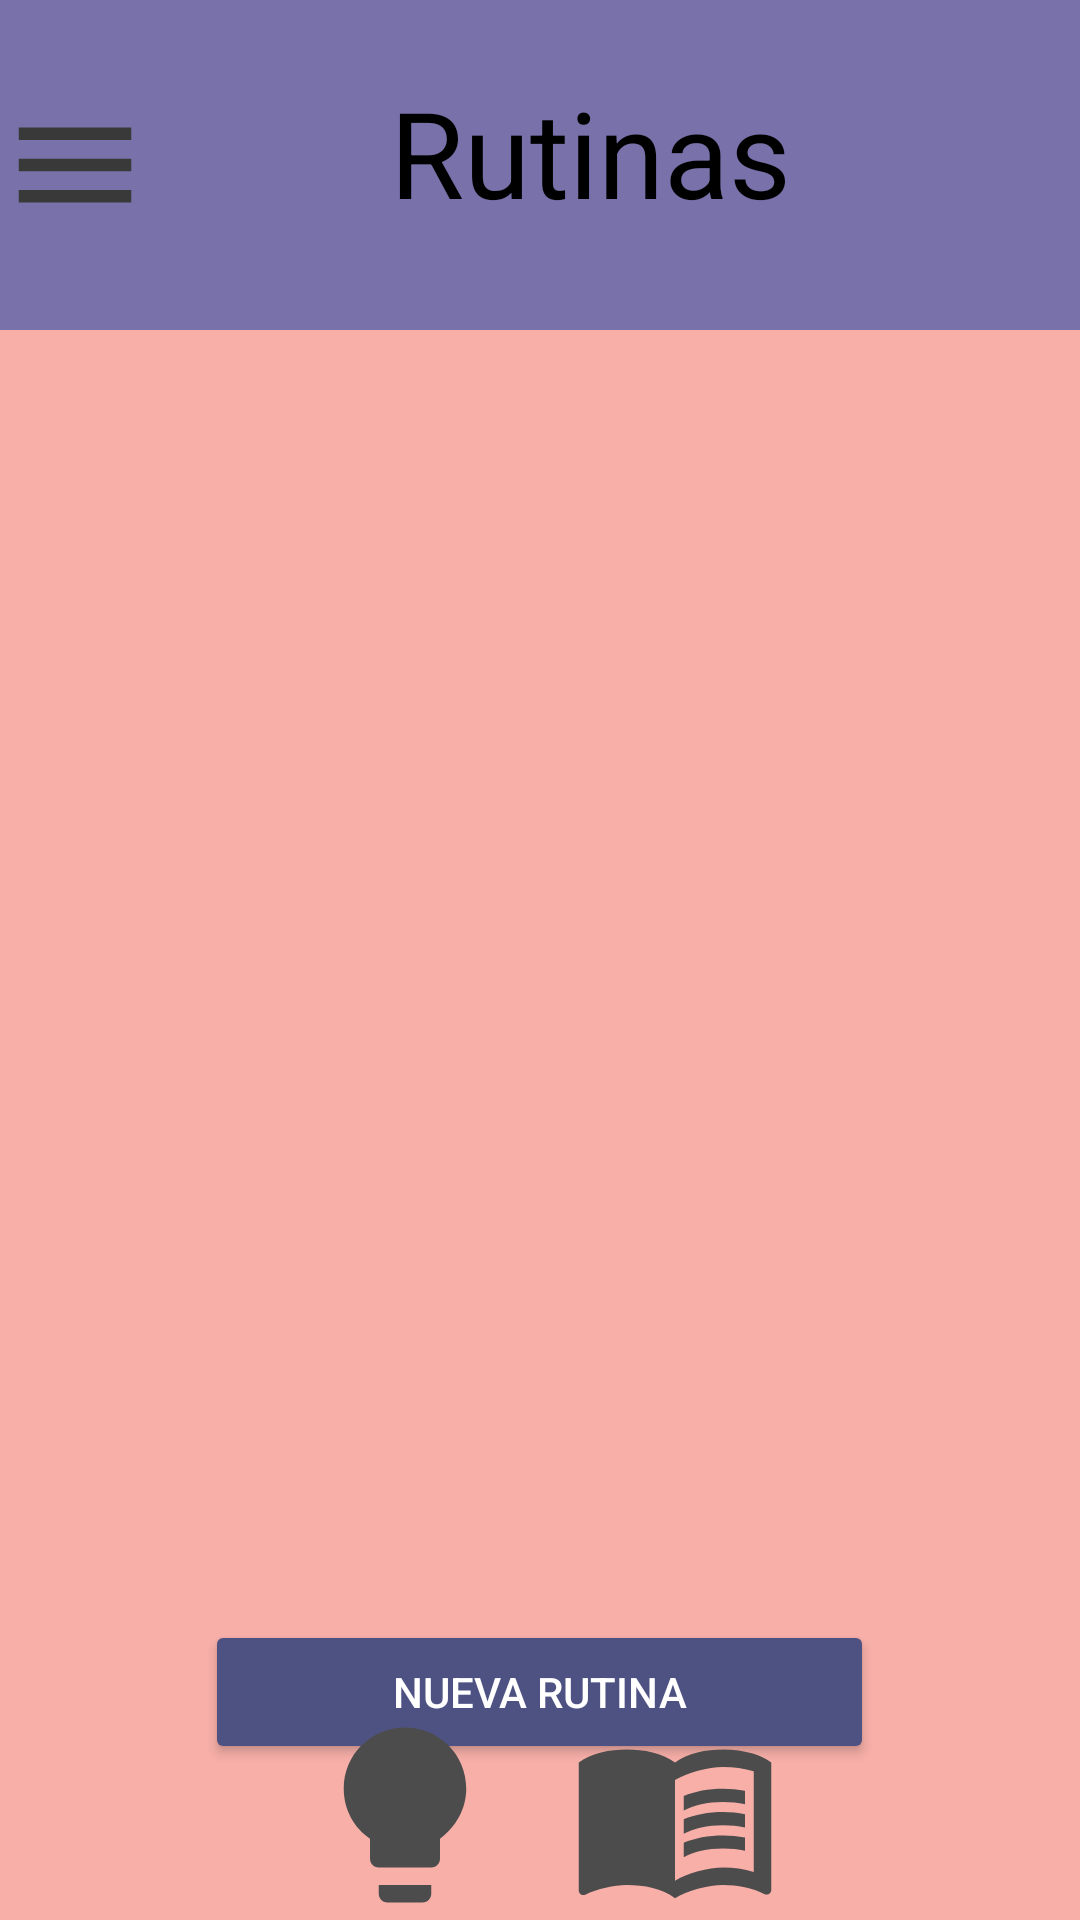

Named icons in this screenshot (1080×1920) and their centers, [x,y]:
book: [675,1815]
menu: [75,165]
